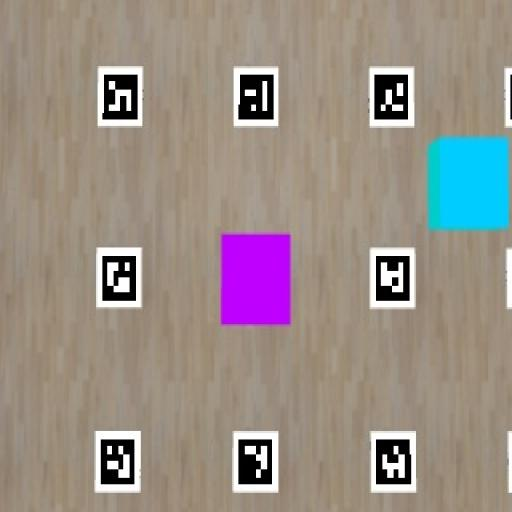car: (428, 137, 510, 230), (221, 235, 291, 326)
